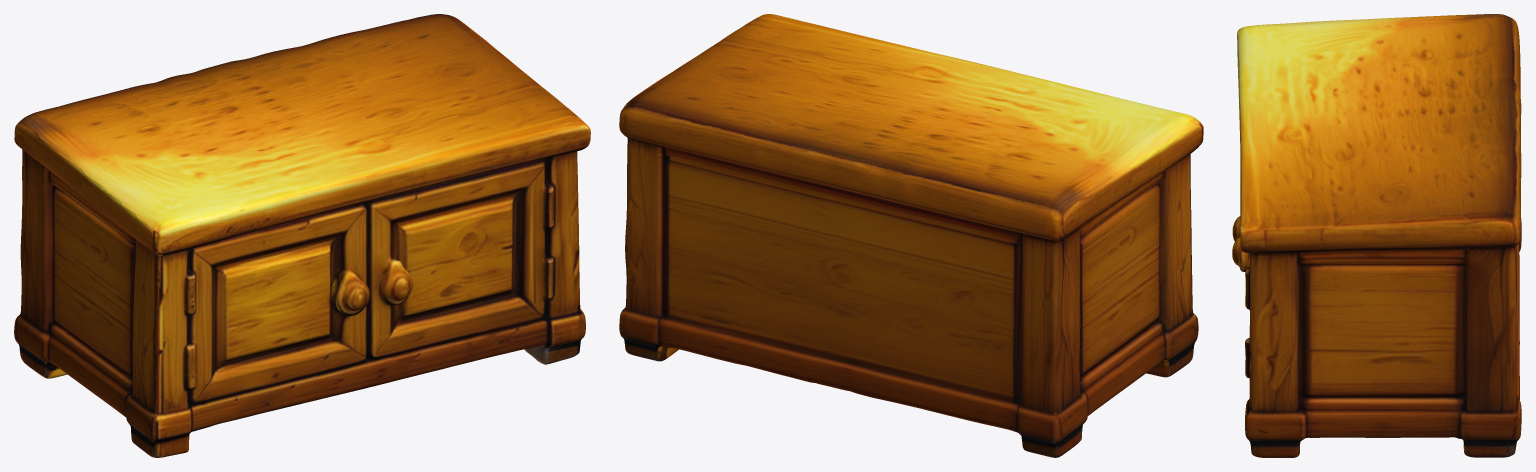
The model's file is Furniture_wardrobe.glb.
The picture shows the model from 3 angles, left to right: view 1: azimuth 30°, elevation 25°; view 2: azimuth 150°, elevation 25°; view 3: azimuth 270°, elevation 25°; orthographic projection. The views are drawn at different scales.
Parts seen in each view (by area): view 1: tmpeekkd7q0.ply; view 2: tmpeekkd7q0.ply; view 3: tmpeekkd7q0.ply.
Part boxes in pixels (<box>): tmpeekkd7q0.ply: <box>14,14,590,457</box>; tmpeekkd7q0.ply: <box>619,14,1203,457</box>; tmpeekkd7q0.ply: <box>1232,14,1521,457</box>.
Bounding box in the file's own units: 1.99 × 1.1 × 1.17.
1 material, 1 textured.
